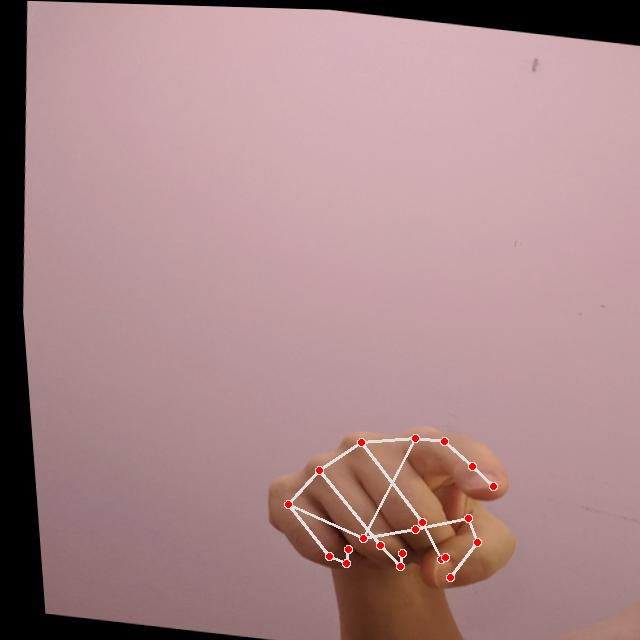Z: (241, 400, 528, 603)
